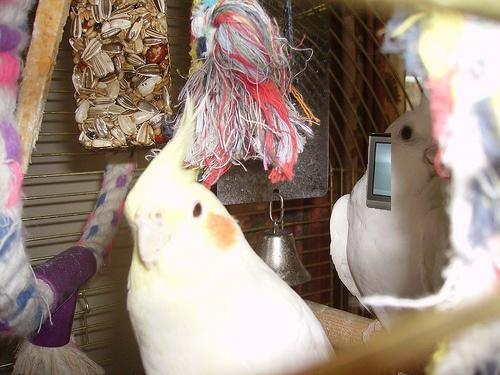tampered: (367, 134, 391, 211)
